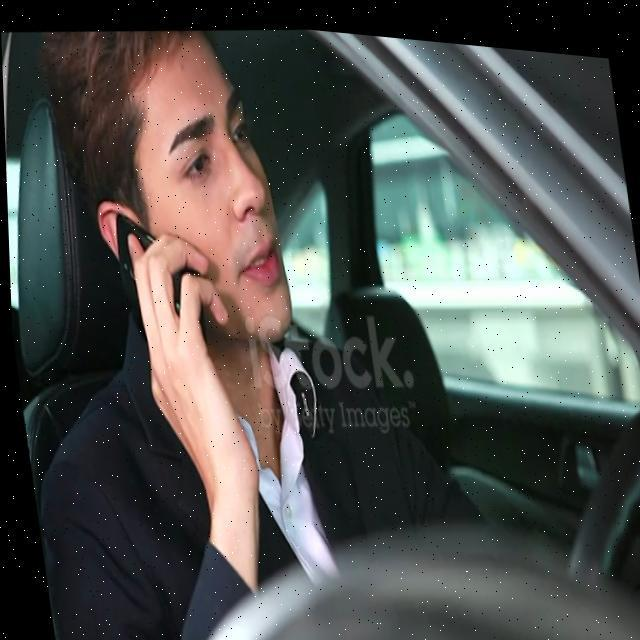PhoneCall: (110, 202, 210, 354)
